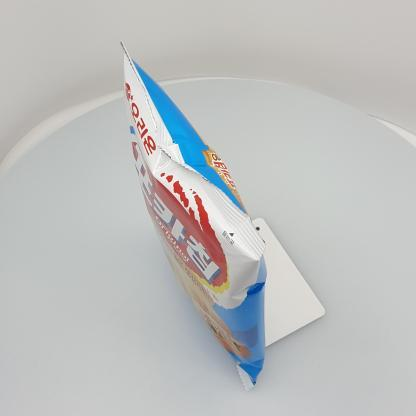Plastic Packaging: (101, 28, 316, 400)
